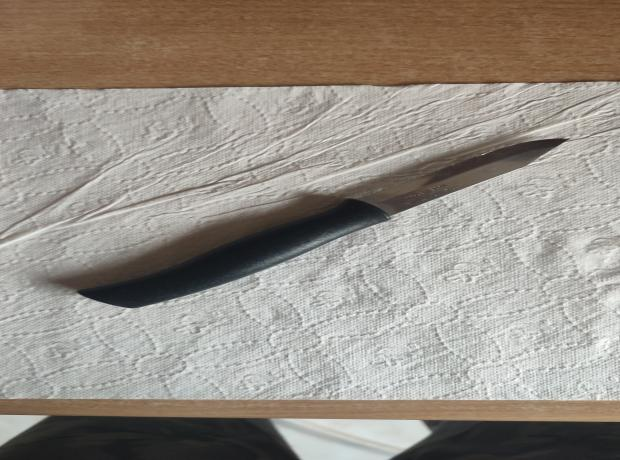metal: (76, 138, 570, 310)
